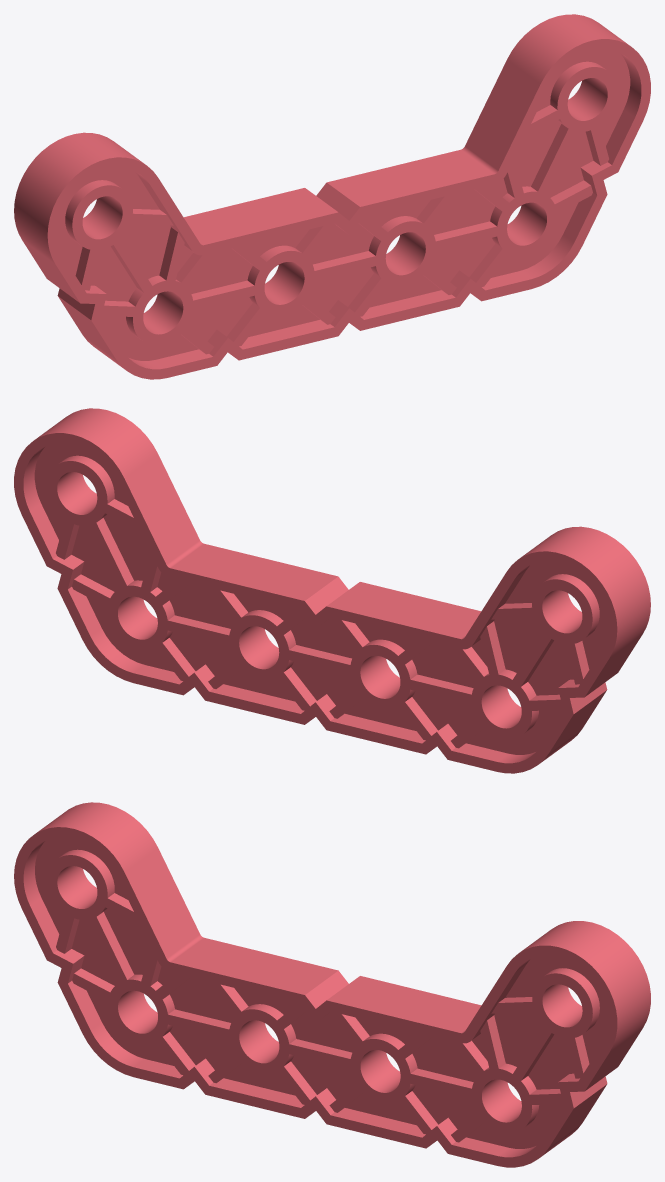
3 views of the same model, one above another, from view 1: azimuth 30°, elevation 25°; view 2: azimuth 150°, elevation 25°; view 3: azimuth 330°, elevation 25° (orthographic).
Parts seen in each view (by area): view 1: main_d22630; view 2: main_d22630; view 3: main_d22630.
Boxes of the visible parts, x1,y1,x2,y2 form: main_d22630: (14,14,650,379); main_d22630: (14,408,650,773); main_d22630: (14,802,650,1167).
Bounding box in the file's own units: 63.18 × 23.4 × 6.1.
